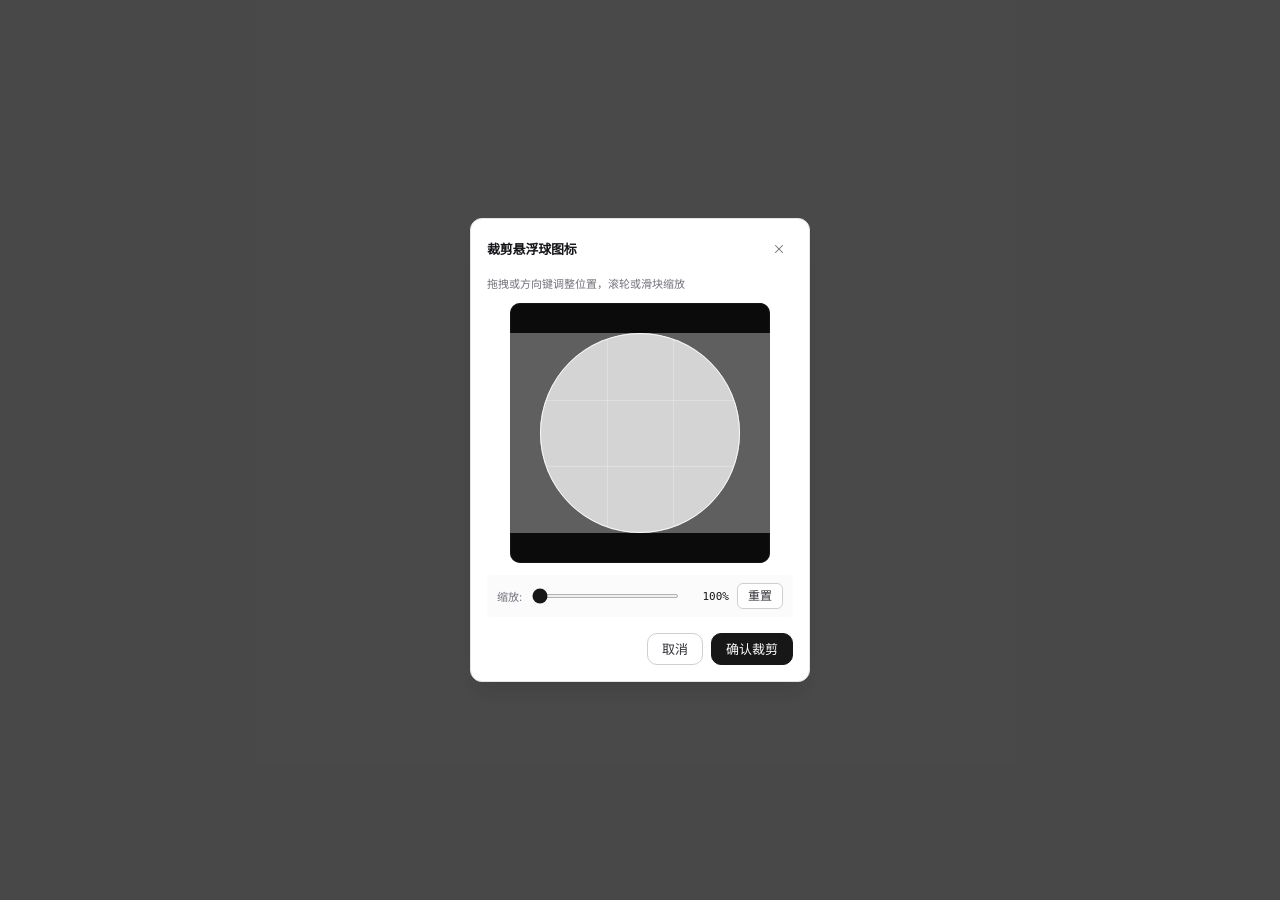
Scenario: BallCropModal 悬浮球裁剪弹窗 › 导出失败时提示错误信息
The width and height of the screenshot is (1280, 900).
Click the button "确认裁剪".
click(752, 649)  # box [711, 633, 793, 665]
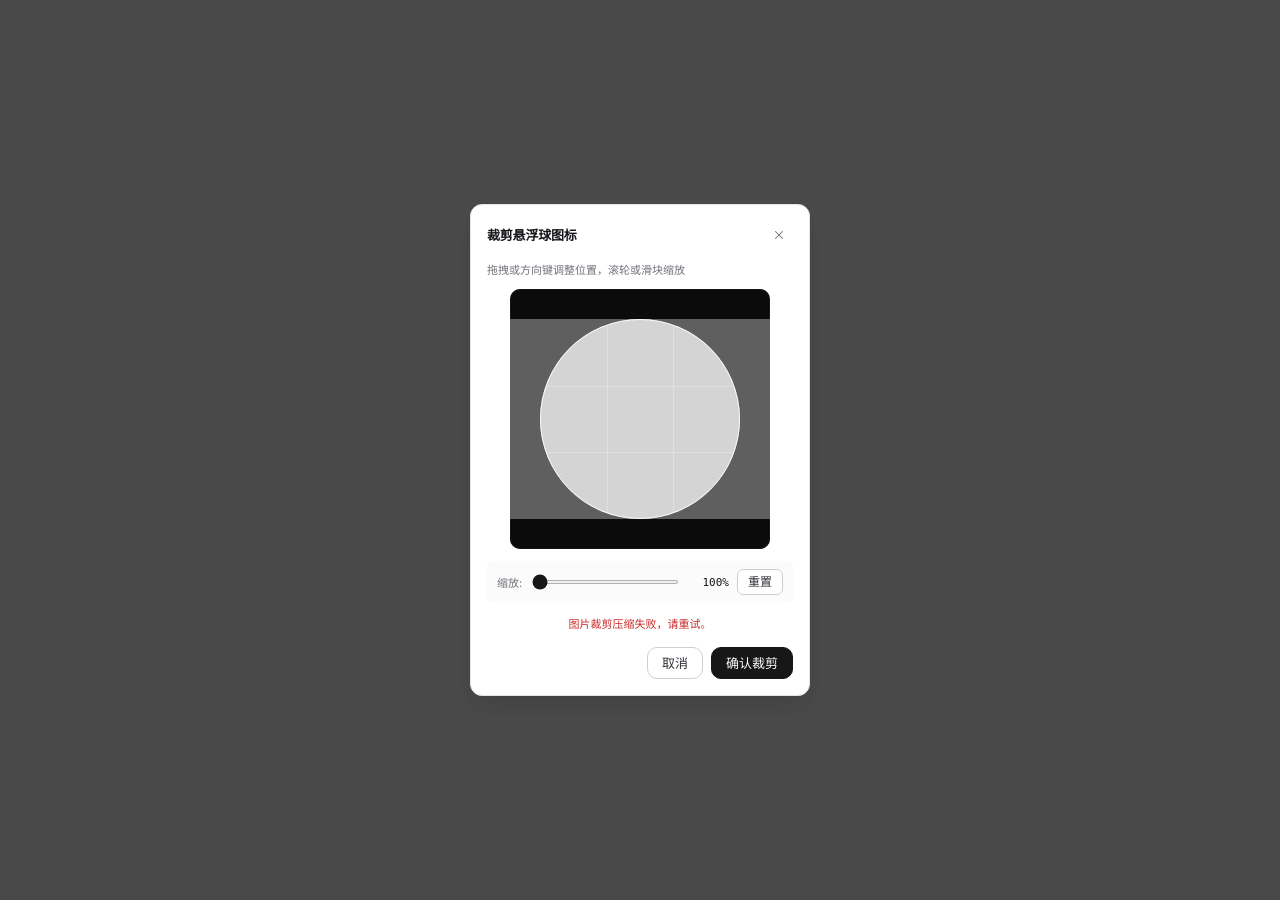
Expected: the text "图片裁剪压缩失败，请重试。" is shown, [568, 617, 712, 631]
